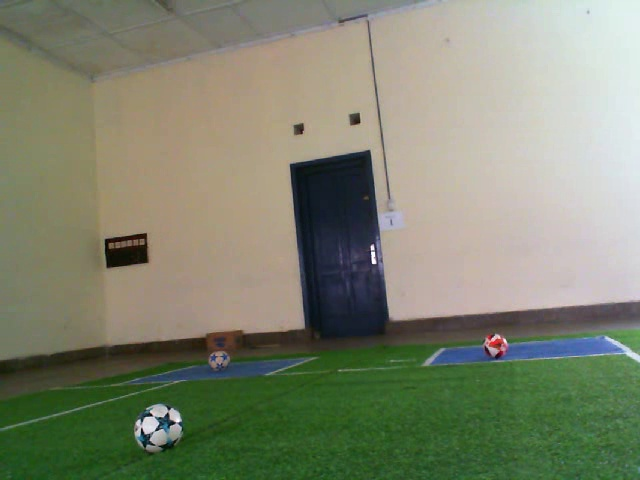ball: (131, 400, 185, 456), (481, 329, 511, 361), (206, 348, 232, 374)
